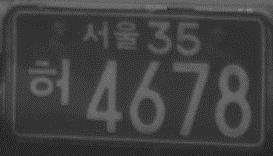3: (145, 19, 172, 57)
4: (84, 58, 123, 133)
5: (172, 20, 202, 56)
6: (129, 59, 166, 136)
7: (169, 60, 211, 138)
8: (211, 64, 254, 139)
서울_O: (82, 19, 139, 52)
허: (27, 56, 71, 107)
